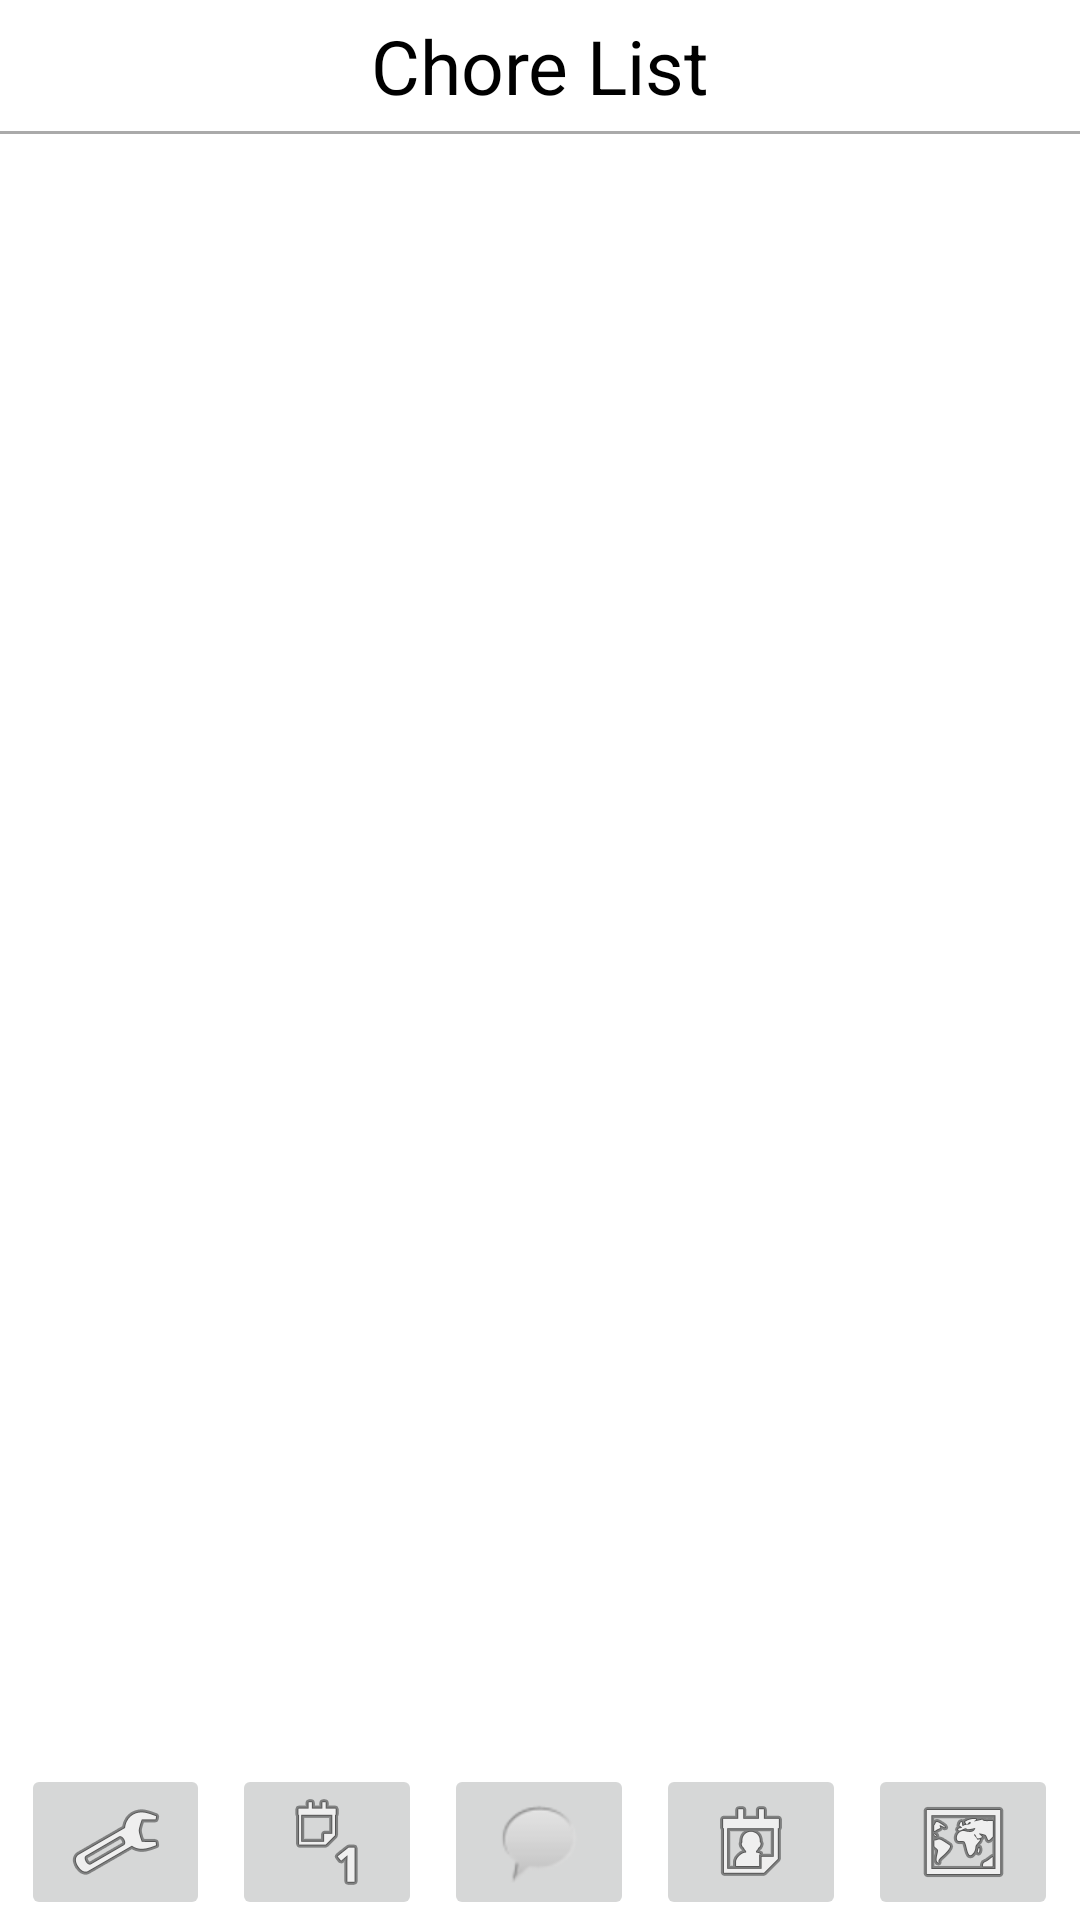

Icons on this 1080w x 1920h Android screen, each with the point to tap as point (x, y):
Go to Chores: point (327, 1842)
Go to Map: point (963, 1842)
Go to Messages: point (539, 1842)
Go to Settings: point (115, 1842)
